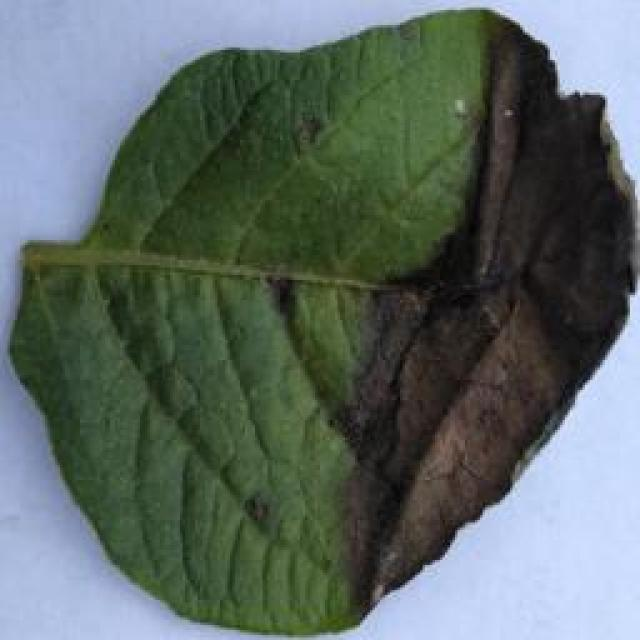Potato_Late_Blight: (3, 8, 636, 636)
